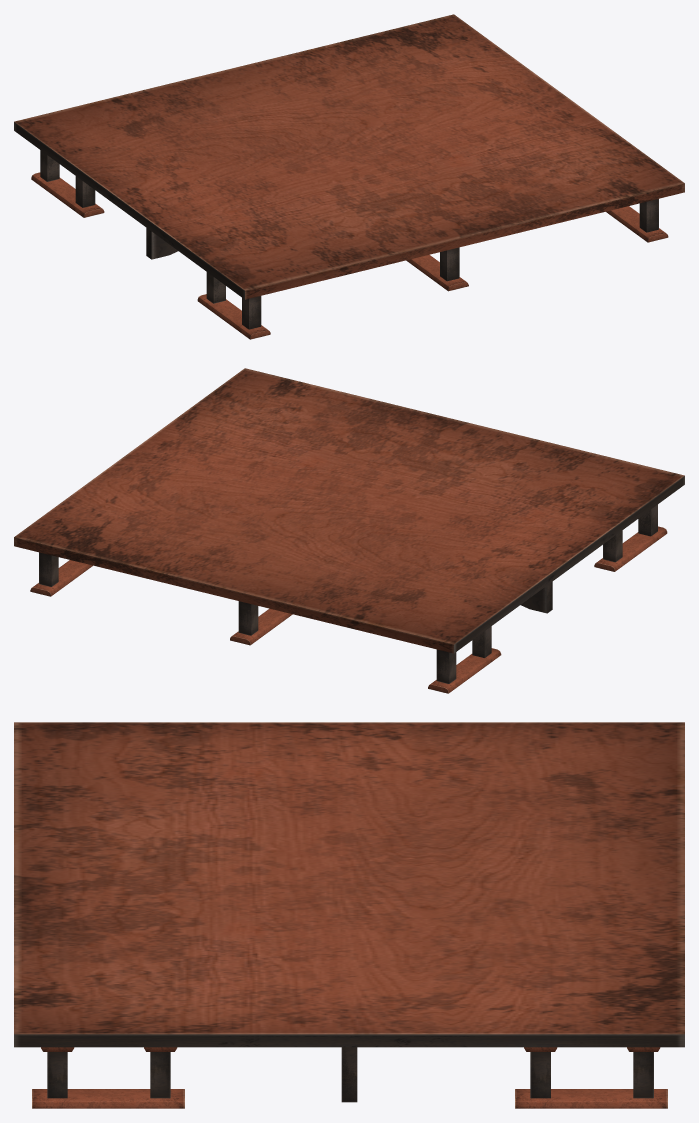
Rendered from FloorTable03.fbx.
The picture shows the model from 3 angles, top to bottom: view 1: azimuth 30°, elevation 25°; view 2: azimuth 150°, elevation 25°; view 3: azimuth 270°, elevation 25°; orthographic projection. The views are drawn at different scales.
Visible parts, largest first — view 1: FloorTable03_Big_; view 2: FloorTable03_Big_; view 3: FloorTable03_Big_.
Part boxes in pixels (<box>): FloorTable03_Big_: <box>14,14,684,339</box>; FloorTable03_Big_: <box>14,368,684,693</box>; FloorTable03_Big_: <box>14,722,684,1108</box>.
Bounding box in the file's own units: 136 × 16.63 × 124.
